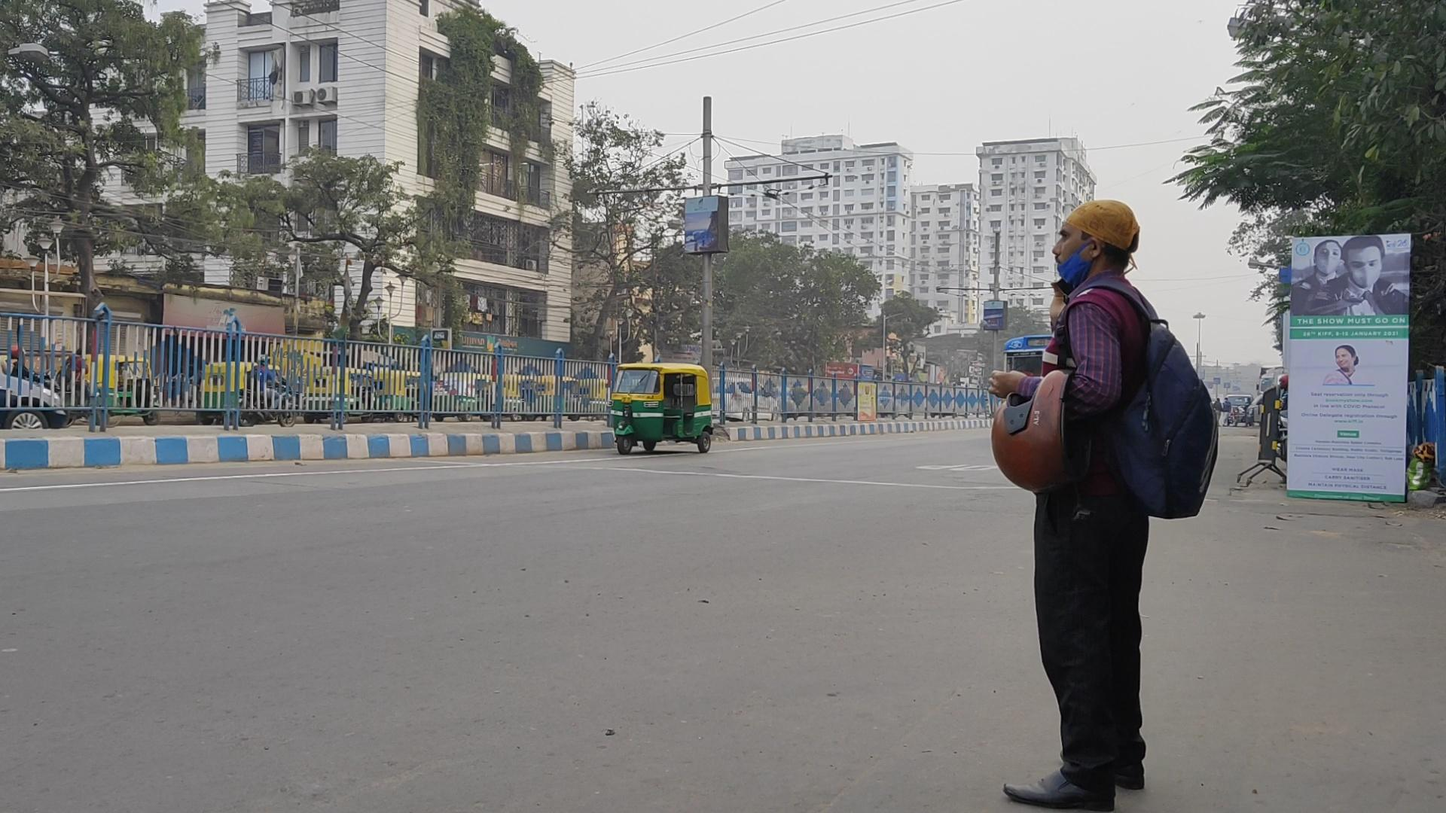Auto: (608, 361, 715, 458)
